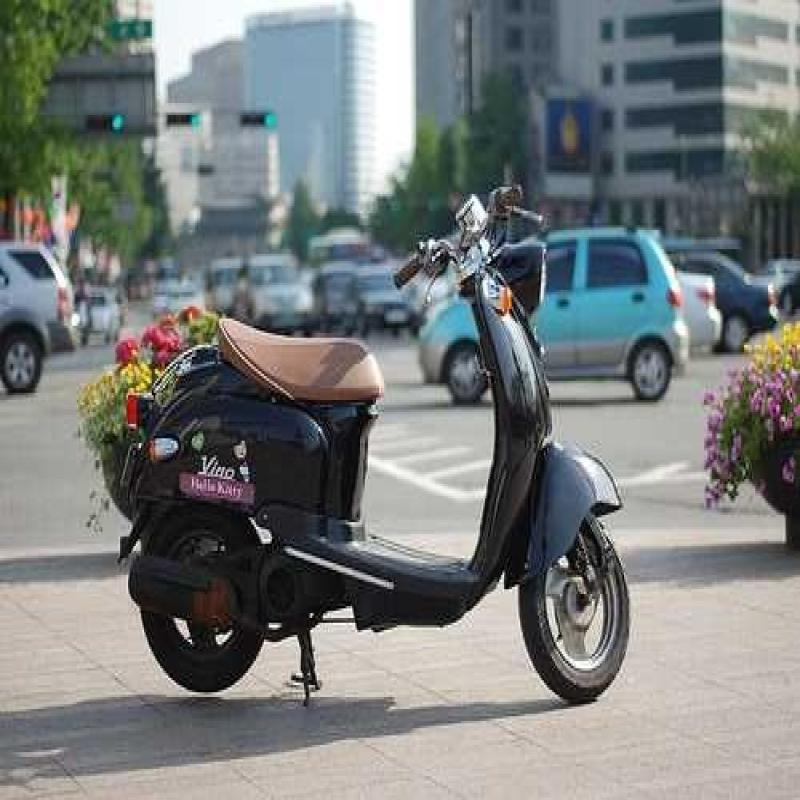bike: (105, 176, 626, 704)
